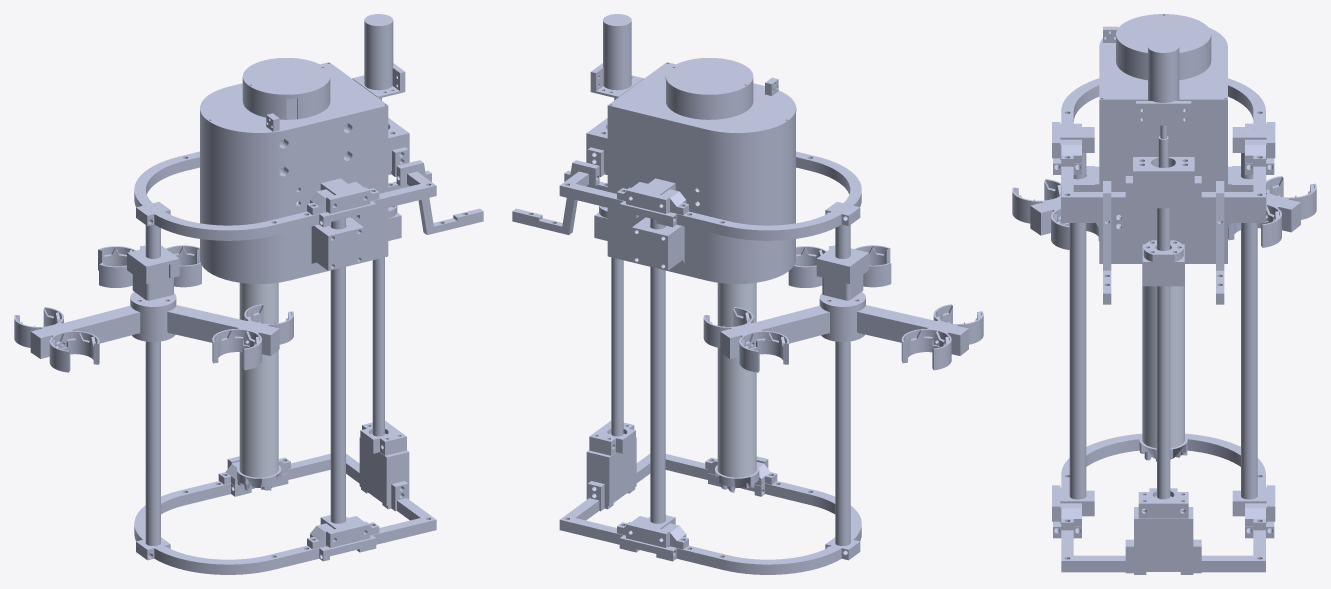
Rendered from SELENE.glb.
The picture shows the model from 3 angles, left to right: view 1: azimuth 30°, elevation 25°; view 2: azimuth 150°, elevation 25°; view 3: azimuth 270°, elevation 25°; orthographic projection. The views are drawn at different scales.
Visible parts, largest first — view 1: Outer shell-1, top-1, outer tube-1, shaft 20d-2, arm curve-3, arm curve-2, bottom 67-1, Motor moc up-1, Arm-2, Ball Screw shaft-1, Arm-1, Linear Bearing 20d-2 (+23 smaller); view 2: Outer shell-1, top-1, outer tube-1, shaft 20d-1, arm curve-1, arm curve-4, bottom 67-1, Motor moc up-1, Arm-1, Ball Screw shaft-1, Arm-3, Linear Bearing 20d-1 (+22 smaller); view 3: Outer shell-1, top-1, shaft 20d-2, shaft 20d-1, outer tube-1, Ball Screw shaft-1, Motor moc up-1, Bottom fr-1, bearing to moto-1, bottom 67-1, arm r-3, arm l-1 (+28 smaller).
Boxes of the visible parts, x1=… form: Outer shell-1: x1=200, y1=98, x2=388, y2=283; top-1: x1=200, y1=62, x2=388, y2=137; outer tube-1: x1=239, y1=282, x2=278, y2=477; shaft 20d-2: x1=330, y1=183, x2=345, y2=523; arm curve-3: x1=143, y1=207, x2=339, y2=240; arm curve-2: x1=143, y1=541, x2=335, y2=574; bottom 67-1: x1=242, y1=58, x2=330, y2=98; Motor moc up-1: x1=352, y1=14, x2=405, y2=100; Arm-2: x1=167, y1=305, x2=279, y2=355; Ball Screw shaft-1: x1=372, y1=257, x2=384, y2=436; Arm-1: x1=30, y1=305, x2=140, y2=358; Linear Bearing 20d-2: x1=312, y1=217, x2=364, y2=270; Outer shell-1: x1=607, y1=109, x2=795, y2=283; top-1: x1=607, y1=62, x2=796, y2=137; outer tube-1: x1=717, y1=282, x2=756, y2=477; shaft 20d-1: x1=650, y1=183, x2=665, y2=523; arm curve-1: x1=656, y1=541, x2=852, y2=574; arm curve-4: x1=656, y1=207, x2=852, y2=240; bottom 67-1: x1=665, y1=57, x2=753, y2=98; Motor moc up-1: x1=590, y1=14, x2=643, y2=100; Arm-1: x1=857, y1=305, x2=968, y2=355; Ball Screw shaft-1: x1=611, y1=257, x2=623, y2=436; Arm-3: x1=720, y1=305, x2=829, y2=358; Linear Bearing 20d-1: x1=632, y1=217, x2=683, y2=270; Outer shell-1: x1=1095, y1=104, x2=1231, y2=263; top-1: x1=1099, y1=26, x2=1227, y2=104; shaft 20d-2: x1=1069, y1=129, x2=1086, y2=499; shaft 20d-1: x1=1241, y1=129, x2=1257, y2=499; outer tube-1: x1=1142, y1=264, x2=1184, y2=448; Ball Screw shaft-1: x1=1157, y1=136, x2=1170, y2=499; Motor moc up-1: x1=1136, y1=39, x2=1191, y2=138; Bottom fr-1: x1=1134, y1=507, x2=1193, y2=571; bearing to moto-1: x1=1133, y1=157, x2=1194, y2=208; bottom 67-1: x1=1116, y1=14, x2=1211, y2=57; arm r-3: x1=1180, y1=523, x2=1274, y2=574; arm l-1: x1=1053, y1=523, x2=1146, y2=574.
Size of the model in its own units: 0.6363 by 0.687 by 0.3645.
